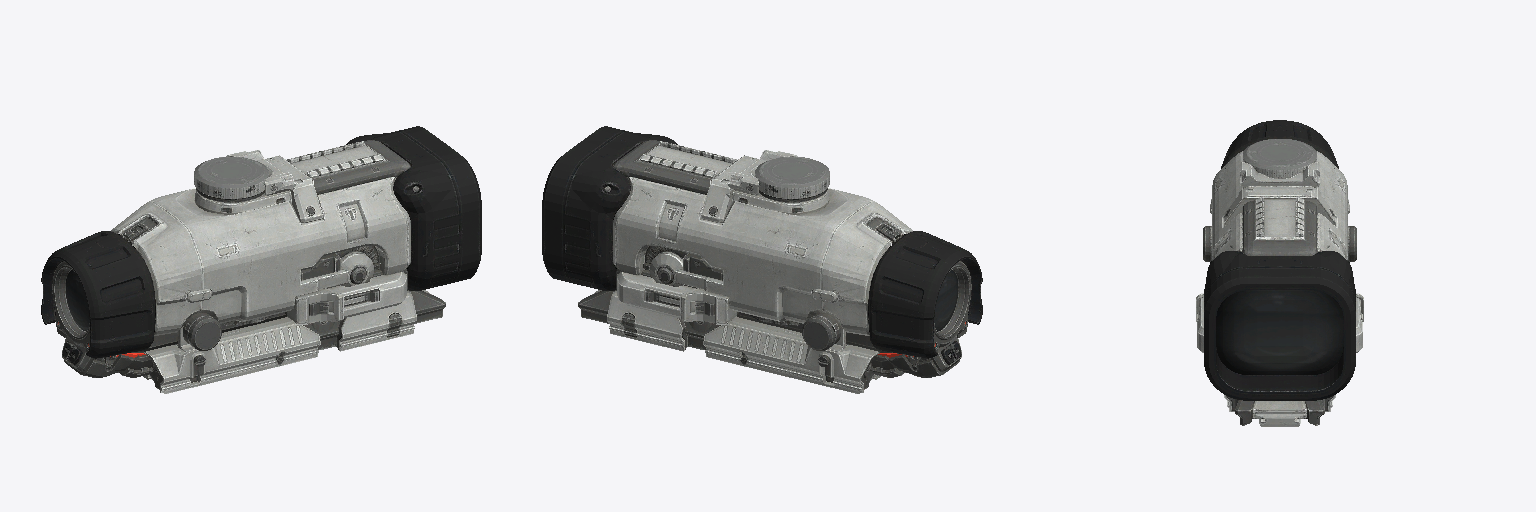
3 views of the same model, side by side, from view 1: azimuth 30°, elevation 25°; view 2: azimuth 150°, elevation 25°; view 3: azimuth 270°, elevation 25° (orthographic).
Visible parts, largest first — view 1: unsc_scope_dual_zoom; view 2: unsc_scope_dual_zoom; view 3: unsc_scope_dual_zoom.
Boxes of the visible parts, <box> form: unsc_scope_dual_zoom: <box>41,126,481,393</box>; unsc_scope_dual_zoom: <box>542,126,982,393</box>; unsc_scope_dual_zoom: <box>1196,120,1363,426</box>.
Size of the model in its own units: 0.1386 by 0.0637 by 0.0528.
2 materials, 2 textured.